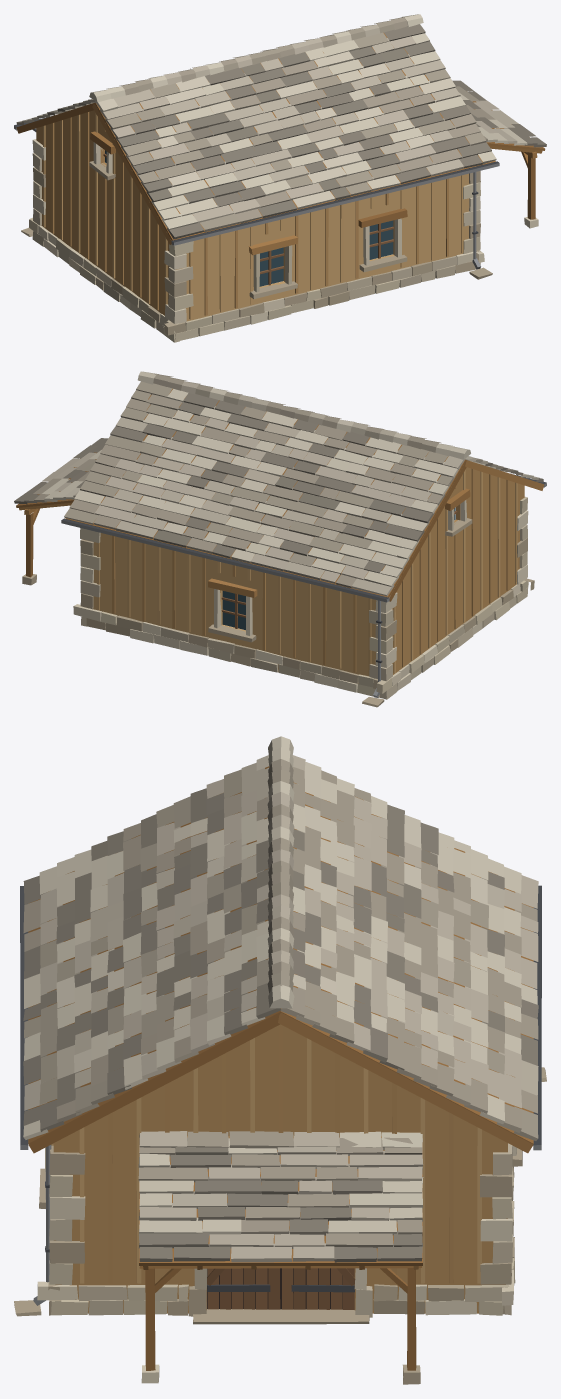
The model's file is scierie.glb.
3 renders of one model, top to bottom at view 1: azimuth 30°, elevation 25°; view 2: azimuth 150°, elevation 25°; view 3: azimuth 270°, elevation 25°, orthographic. The views are drawn at different scales.
Visible parts, largest first — view 1: scierie; view 2: scierie; view 3: scierie.
Part boxes in pixels (x1=…): scierie: x1=14, y1=14, x2=546, y2=342; scierie: x1=14, y1=371, x2=546, y2=707; scierie: x1=14, y1=736, x2=546, y2=1384.
Size of the model in its own units: 13.62 by 6.39 by 9.39.
